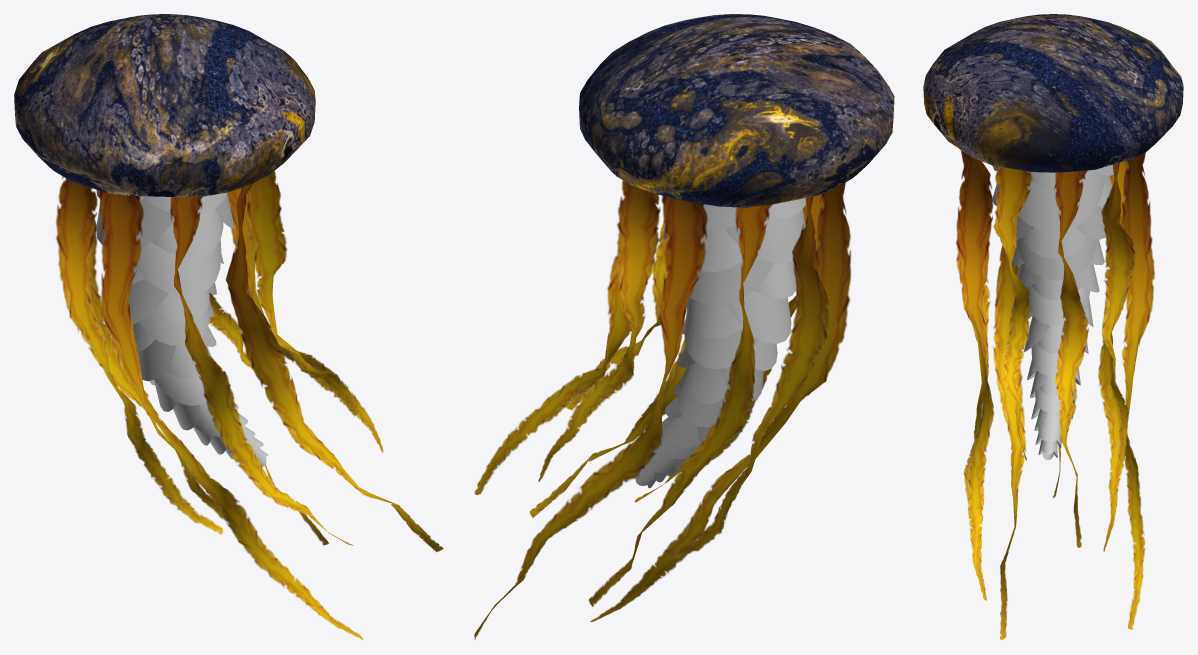
3 views of the same model, side by side, from view 1: azimuth 30°, elevation 25°; view 2: azimuth 150°, elevation 25°; view 3: azimuth 270°, elevation 25° (orthographic). The views are drawn at different scales.
Parts seen in each view (by area): view 1: Cap, Arms, Foot; view 2: Cap, Arms, Foot; view 3: Arms, Cap, Foot.
Boxes of the visible parts, x1=… form: Cap: x1=14, y1=14, x2=315, y2=197; Arms: x1=56, y1=171, x2=443, y2=639; Foot: x1=96, y1=190, x2=268, y2=466; Cap: x1=579, y1=14, x2=894, y2=207; Arms: x1=474, y1=180, x2=851, y2=639; Foot: x1=635, y1=198, x2=805, y2=488; Arms: x1=956, y1=150, x2=1154, y2=640; Cap: x1=923, y1=14, x2=1183, y2=172; Foot: x1=992, y1=164, x2=1113, y2=460.
Size of the model in its own units: 3.55 by 5.77 by 2.51.
